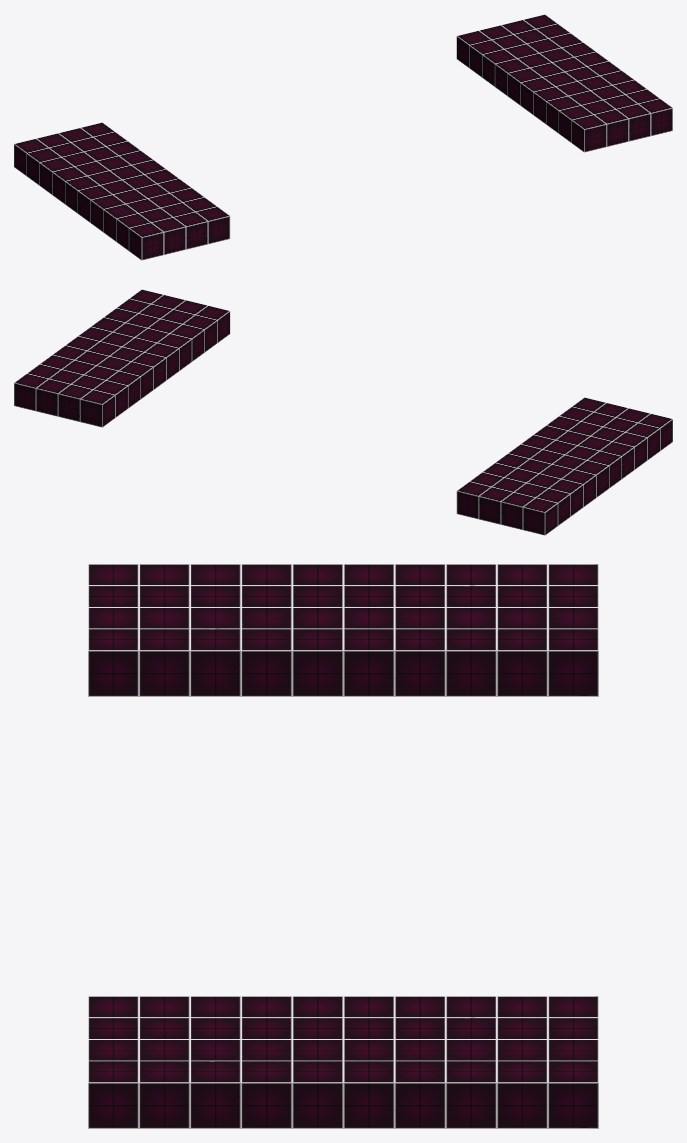
The model's file is JumpPlatform.fbx.
3 views of the same model, one above another, from view 1: azimuth 30°, elevation 25°; view 2: azimuth 150°, elevation 25°; view 3: azimuth 270°, elevation 25° (orthographic). The views are drawn at different scales.
Parts seen in each view (by area): view 1: Floor1; view 2: Floor1; view 3: Floor1.
Boxes of the visible parts, x1,y1,x2,y2 form: Floor1: (14,14,672,260); Floor1: (14,289,672,535); Floor1: (88,564,598,1128).
Size of the model in its own units: 240000 by 10000 by 100000.
